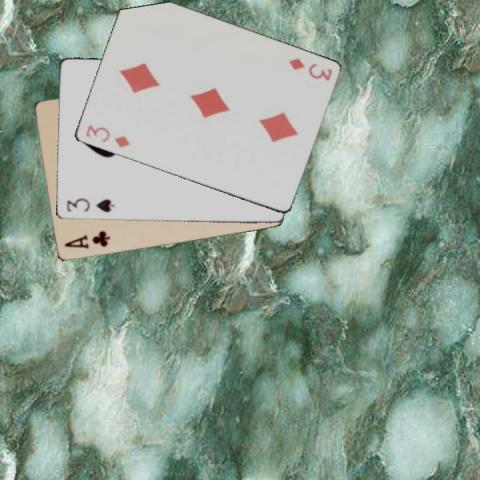3d: (82, 122, 132, 149), (286, 55, 334, 83)
3s: (64, 195, 116, 214)
Ac: (61, 228, 112, 250)
